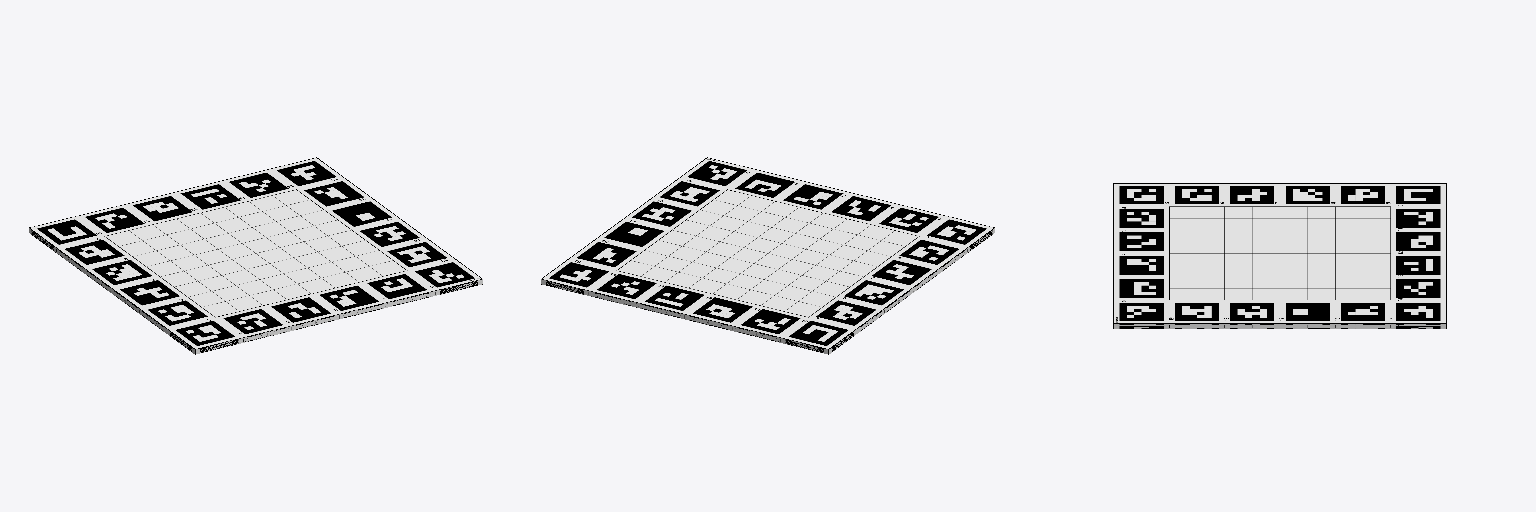
3 views of the same model, side by side, from view 1: azimuth 30°, elevation 25°; view 2: azimuth 150°, elevation 25°; view 3: azimuth 270°, elevation 25° (orthographic).
Visible parts, largest first — view 1: Cube_Cube.001; view 2: Cube_Cube.001; view 3: Cube_Cube.001.
Boxes of the visible parts, x1=… form: Cube_Cube.001: x1=29, y1=157, x2=482, y2=354; Cube_Cube.001: x1=541, y1=157, x2=994, y2=354; Cube_Cube.001: x1=1113, y1=183, x2=1446, y2=328.
Size of the model in its own units: 600 by 10 by 600.
Materials: 1 (1 with a texture image).